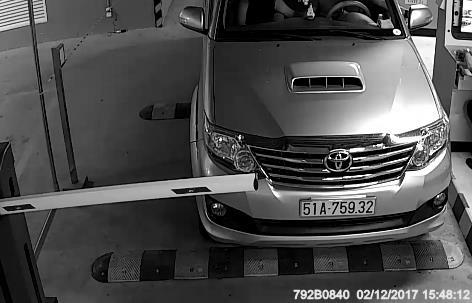License-plate: (295, 191, 385, 221)
